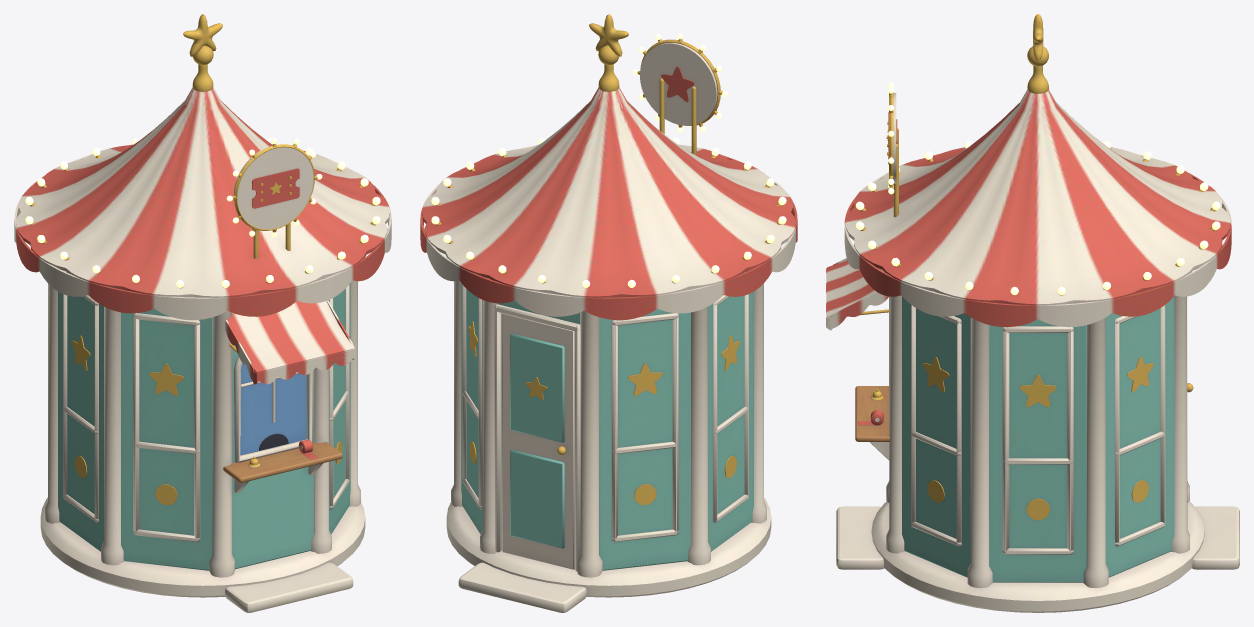
File: ticket-booth.glb
3 views of the same model, side by side, from view 1: azimuth 30°, elevation 25°; view 2: azimuth 150°, elevation 25°; view 3: azimuth 270°, elevation 25° (orthographic). The views are drawn at different scales.
Visible parts, largest first — view 1: ticket-booth_body, ticket-booth_bulbs; view 2: ticket-booth_body, ticket-booth_bulbs; view 3: ticket-booth_body, ticket-booth_bulbs.
Part boxes in pixels (x1=…): ticket-booth_body: x1=14, y1=14, x2=391, y2=612; ticket-booth_bulbs: x1=25, y1=137, x2=380, y2=287; ticket-booth_body: x1=420, y1=14, x2=797, y2=612; ticket-booth_bulbs: x1=431, y1=33, x2=786, y2=287; ticket-booth_body: x1=826, y1=14, x2=1239, y2=612; ticket-booth_bulbs: x1=855, y1=82, x2=1220, y2=295.
Bounding box in the file's own units: 2.65 × 4 × 2.83.
2 materials, 1 textured.
